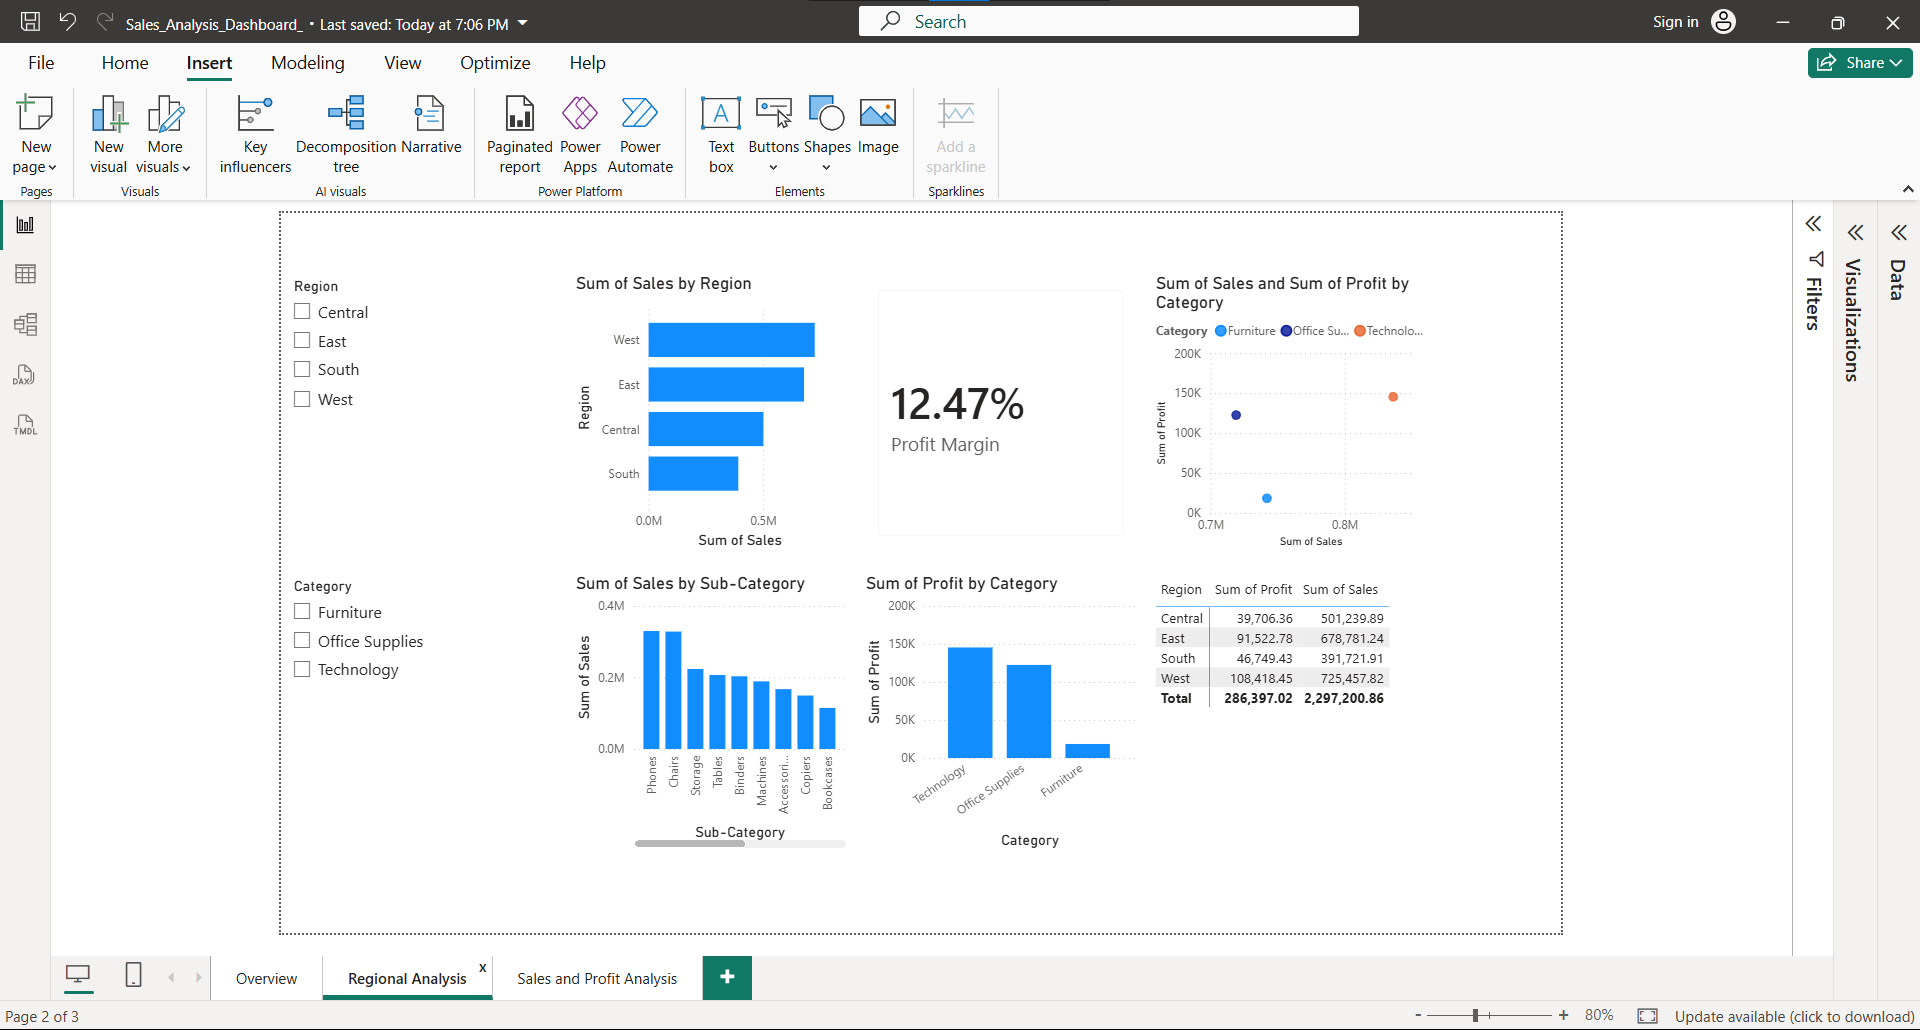

Layout of this report page (visuals, bound fields, positions):
{"tool":"powerbi","page":{"name":"Regional Analysis","canvas":[1280,720],"ordinal":1},"visuals":[{"type":"slicer","fields":{"Values":["SampleSuperstore.Region"]},"box":[0,60,280,280],"z":0},{"type":"slicer","fields":{"Values":["SampleSuperstore.Category"]},"box":[0,360,280,280],"z":1},{"type":"clusteredBarChart","fields":{"Category":["SampleSuperstore.Region"],"Y":["Sum(SampleSuperstore.Sales)"]},"box":[290,60,280,280],"z":2},{"type":"clusteredColumnChart","fields":{"Category":["SampleSuperstore.Sub-Category"],"Y":["Sum(SampleSuperstore.Sales)"]},"box":[290,360,280,280],"z":3},{"type":"cardVisual","fields":{"Data":["SampleSuperstore.Profit Margin"]},"box":[580,60,280,280],"z":4},{"type":"clusteredColumnChart","fields":{"Category":["SampleSuperstore.Category"],"Y":["Sum(SampleSuperstore.Profit)"]},"box":[580,360,280,280],"z":5},{"type":"scatterChart","fields":{"X":["Sum(SampleSuperstore.Sales)"],"Y":["Sum(SampleSuperstore.Profit)"],"Series":["SampleSuperstore.Category"]},"box":[870,60,280,280],"z":6},{"type":"pivotTable","fields":{"Rows":["SampleSuperstore.Region"],"Values":["Sum(SampleSuperstore.Profit)","Sum(SampleSuperstore.Sales)"]},"box":[870,360,280,280],"z":7}]}

Visuals, with their boxes on the page's 1280x720 design canvas (x1, y1, x2, y2). These are canvas units, not pixel positions in the 1920x1030 screenshot, which may show the page scaled, cropped or inside an application window:
slicer - SampleSuperstore.Region: [0, 60, 280, 340]
slicer - SampleSuperstore.Category: [0, 360, 280, 640]
clusteredBarChart - SampleSuperstore.Region x Sum(SampleSuperstore.Sales): [290, 60, 570, 340]
clusteredColumnChart - SampleSuperstore.Sub-Category x Sum(SampleSuperstore.Sales): [290, 360, 570, 640]
cardVisual - SampleSuperstore.Profit Margin: [580, 60, 860, 340]
clusteredColumnChart - SampleSuperstore.Category x Sum(SampleSuperstore.Profit): [580, 360, 860, 640]
scatterChart - Sum(SampleSuperstore.Sales) x Sum(SampleSuperstore.Profit): [870, 60, 1150, 340]
pivotTable - SampleSuperstore.Region x Sum(SampleSuperstore.Profit): [870, 360, 1150, 640]
